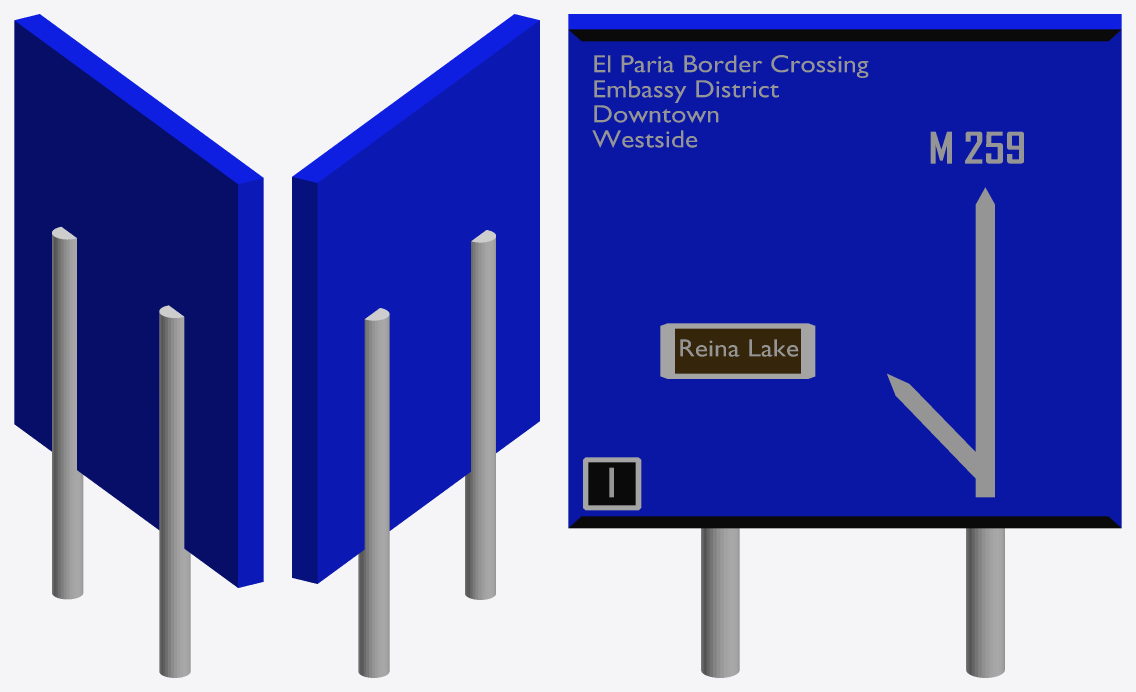
File: UK_motorway_sign_3.fbx
3 renders of one model, left to right at view 1: azimuth 30°, elevation 25°; view 2: azimuth 150°, elevation 25°; view 3: azimuth 270°, elevation 25°, orthographic. The views are drawn at different scales.
Visible parts, largest first — view 1: Cube.001, Cylinder, Cylinder.001; view 2: Cube.001, Cylinder.001, Cylinder; view 3: Cube.001, Plane.003, Plane, Cylinder.001, Cylinder, Text.002, Plane.002, Plane.001, Text.003, Text.001.
Part boxes in pixels (bbox=[...]): Cube.001: bbox=[14, 14, 263, 587]; Cylinder: bbox=[159, 305, 190, 677]; Cylinder.001: bbox=[52, 226, 83, 599]; Cube.001: bbox=[292, 14, 539, 583]; Cylinder.001: bbox=[358, 308, 389, 677]; Cylinder: bbox=[465, 230, 495, 599]; Cube.001: bbox=[568, 14, 1121, 528]; Plane.003: bbox=[660, 323, 815, 378]; Plane: bbox=[975, 187, 994, 497]; Cylinder.001: bbox=[966, 528, 1004, 677]; Cylinder: bbox=[701, 528, 739, 677]; Text.002: bbox=[592, 55, 868, 147]; Plane.002: bbox=[583, 457, 641, 510]; Plane.001: bbox=[887, 373, 975, 477]; Text.003: bbox=[930, 131, 1023, 163]; Text.001: bbox=[680, 339, 798, 356].
Size of the model in its own units: 6.09 by 74.37 by 56.78.
